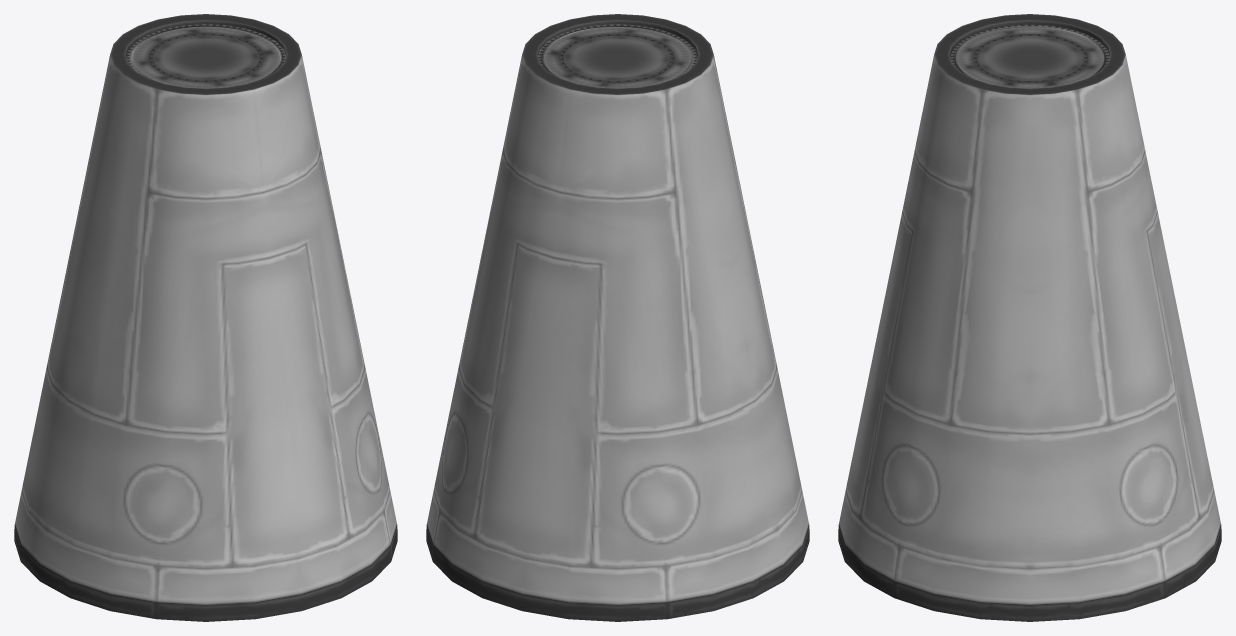
The model's file is ThorLong625Adapter.dae.
3 views of the same model, side by side, from view 1: azimuth 30°, elevation 25°; view 2: azimuth 150°, elevation 25°; view 3: azimuth 270°, elevation 25° (orthographic).
Parts seen in each view (by area): view 1: polySurface12, polySurface25, polySurface13; view 2: polySurface12, polySurface25, polySurface13; view 3: polySurface12, polySurface25, polySurface13.
Part boxes in pixels (bbox=[...]): polySurface12: bbox=[14, 55, 397, 621]; polySurface25: bbox=[126, 24, 285, 88]; polySurface13: bbox=[110, 14, 301, 94]; polySurface12: bbox=[426, 55, 809, 621]; polySurface25: bbox=[538, 24, 697, 88]; polySurface13: bbox=[522, 14, 713, 94]; polySurface12: bbox=[838, 55, 1221, 621]; polySurface25: bbox=[950, 24, 1109, 88]; polySurface13: bbox=[934, 14, 1125, 94].
Bounding box in the file's own units: 1.25 × 1.75 × 1.25.
